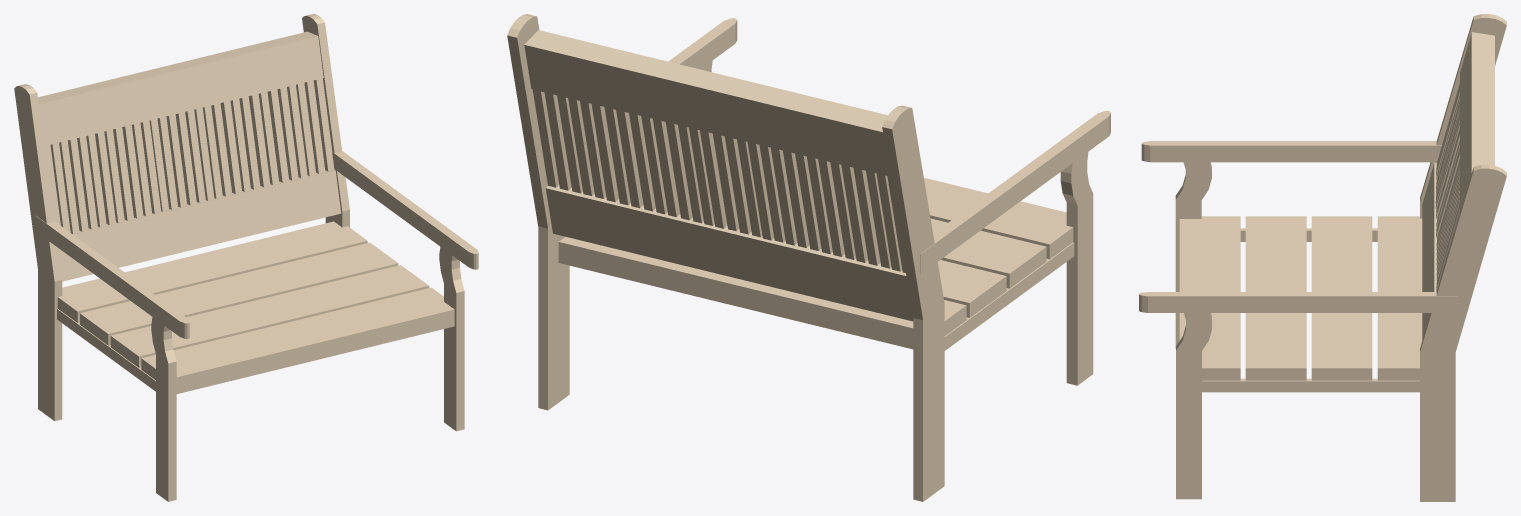
File: sh-contrib-bench.glb
The picture shows the model from 3 angles, left to right: view 1: azimuth 30°, elevation 25°; view 2: azimuth 150°, elevation 25°; view 3: azimuth 270°, elevation 25°; orthographic projection. The views are drawn at different scales.
Parts seen in each view (by area): view 1: Cube_1; view 2: Cube_1; view 3: Cube_1.
Part boxes in pixels (bbox=[...]): Cube_1: bbox=[14, 14, 478, 501]; Cube_1: bbox=[507, 14, 1110, 501]; Cube_1: bbox=[1139, 14, 1506, 501].
Bounding box in the file's own units: 1 × 1 × 1.
